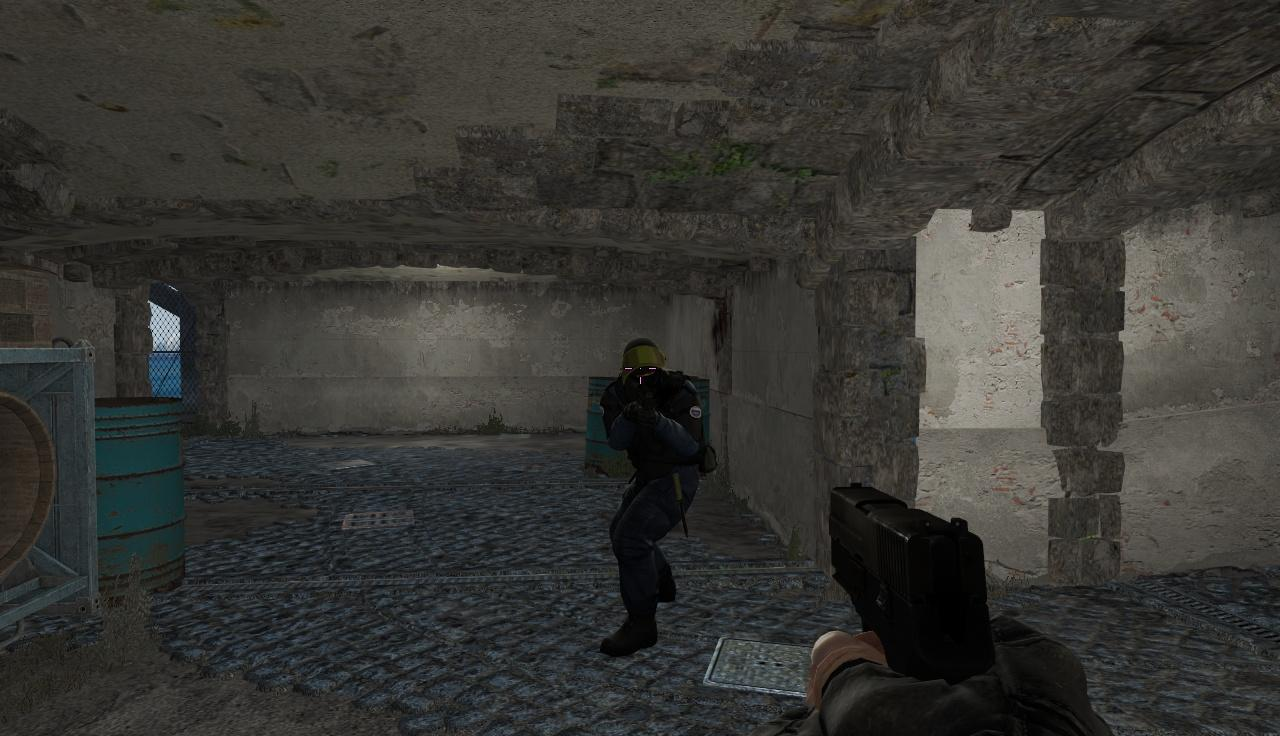ct: (599, 343, 697, 649)
cthead: (621, 339, 666, 387)
pistol: (812, 483, 1060, 736)
